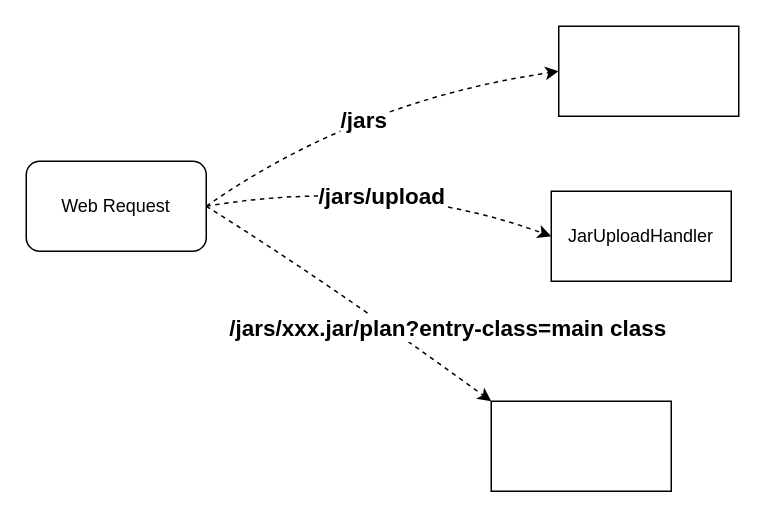
The diagram is 765 pixels wide and 518 high, and some of its shapes have lost their labels. The shapes that lost their labels are listed below. From the top down, each one's centre as x and y in pixels, then its label:
At [648,70]: "JarListHandler".
At [580,445]: "JarPlanHandler".
